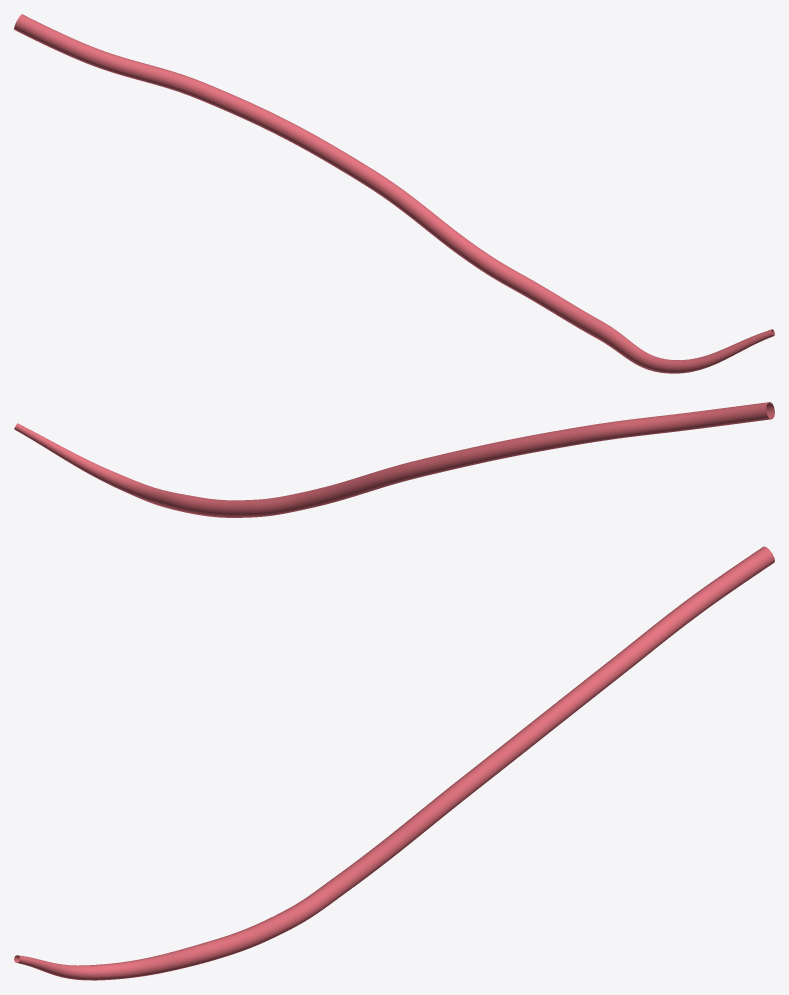
3 views of the same model, one above another, from view 1: azimuth 30°, elevation 25°; view 2: azimuth 210°, elevation 25°; view 3: azimuth 270°, elevation 25° (orthographic). The views are drawn at different scales.
Visible parts, largest first — view 1: ZA_eb4d13350c790485; view 2: ZA_eb4d13350c790485; view 3: ZA_eb4d13350c790485.
Boxes of the visible parts, left/top/right/bottom form: ZA_eb4d13350c790485: left=14, top=14, right=774, bottom=373; ZA_eb4d13350c790485: left=14, top=402, right=774, bottom=517; ZA_eb4d13350c790485: left=14, top=546, right=774, bottom=980.
Bounding box in the file's own units: 0.0276 × 0.014 × 0.0388.
